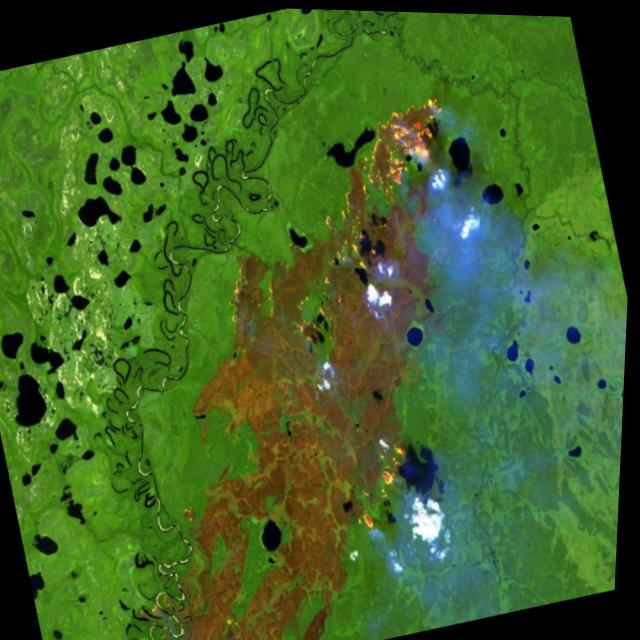fire: (283, 77, 487, 287), (333, 410, 437, 545)
